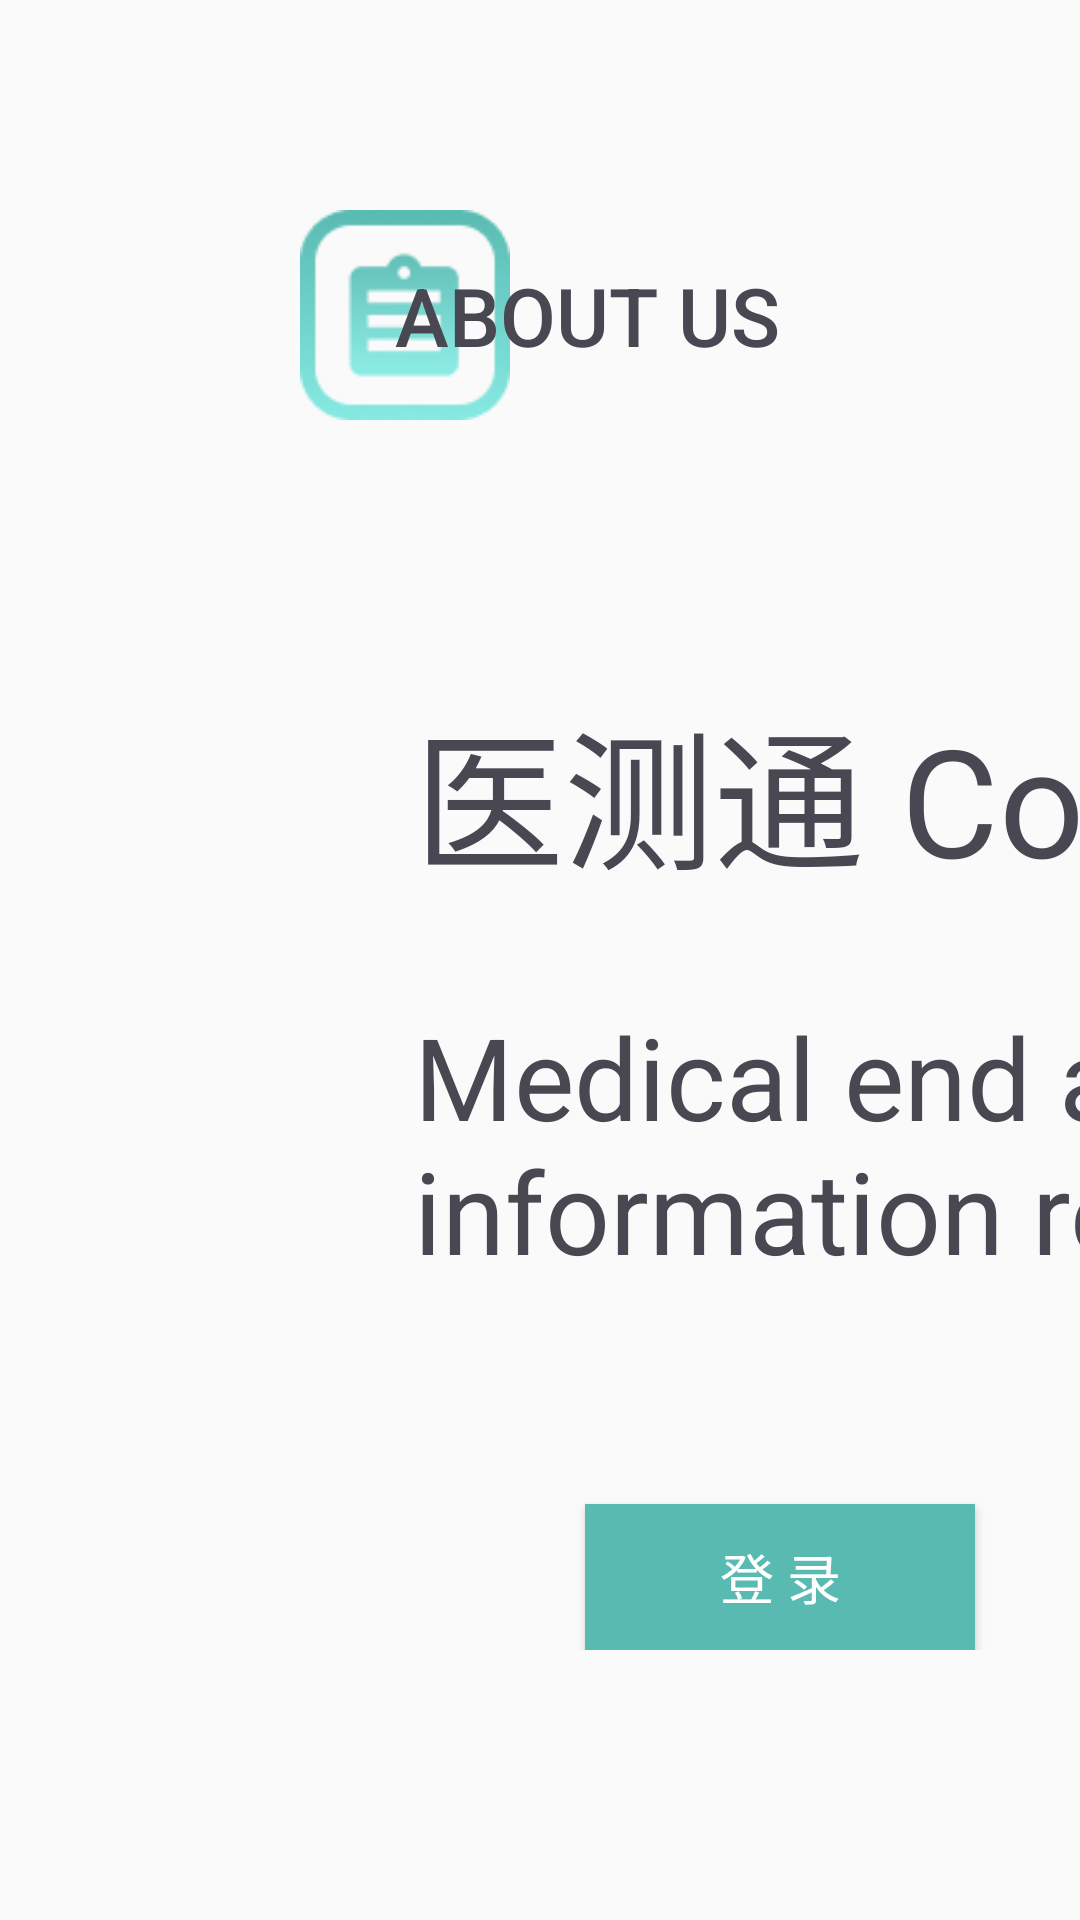

Screen size 1080x1920. Icon name, then its box in pixels as box=[x1, y1, x2, y2]:
app: box=[300, 210, 510, 420]
